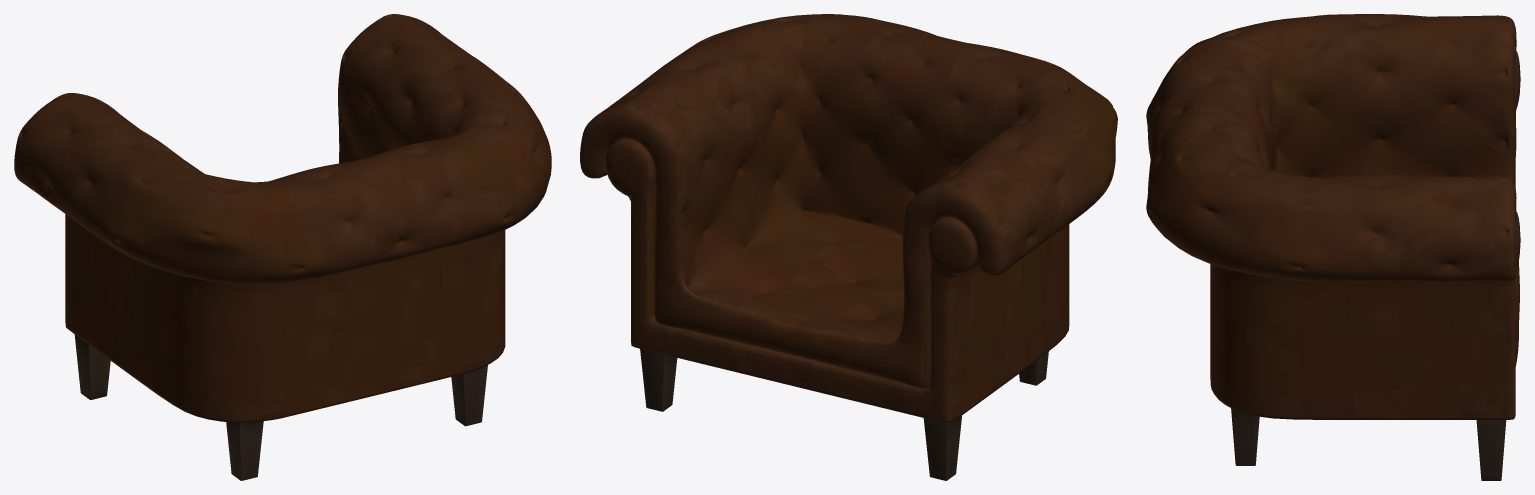
Rendered from Chair16.glb.
3 renders of one model, left to right at view 1: azimuth 30°, elevation 25°; view 2: azimuth 150°, elevation 25°; view 3: azimuth 270°, elevation 25°, orthographic. The views are drawn at different scales.
Parts seen in each view (by area): view 1: Chair16_model; view 2: Chair16_model; view 3: Chair16_model.
Boxes of the visible parts, box(x1,y1,x2,y2) form: Chair16_model: box(14, 14, 551, 480); Chair16_model: box(580, 14, 1117, 480); Chair16_model: box(1146, 14, 1520, 480).
Bounding box in the file's own units: 2.12 × 1.42 × 1.57.
1 material, 1 textured.
